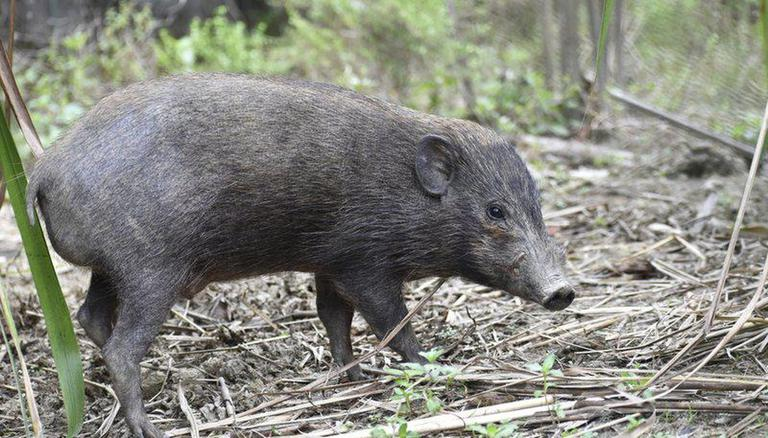boar: (17, 62, 590, 438)
